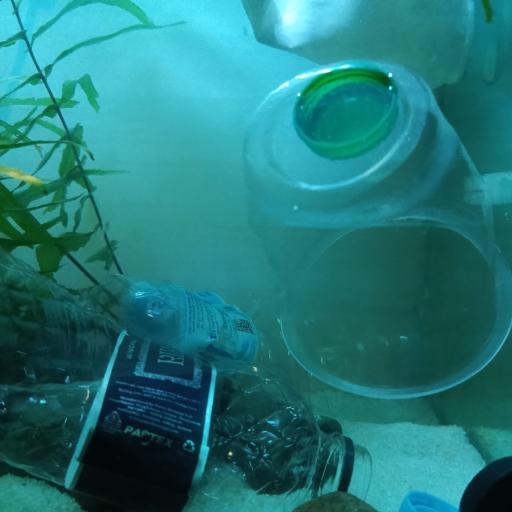bottle_cap: (294, 66, 398, 158), (459, 455, 512, 512), (397, 489, 461, 512)
glove: (240, 0, 504, 85)
plastic_bottle: (0, 290, 373, 512), (68, 274, 428, 410)
plastic_cup: (240, 56, 512, 403)
